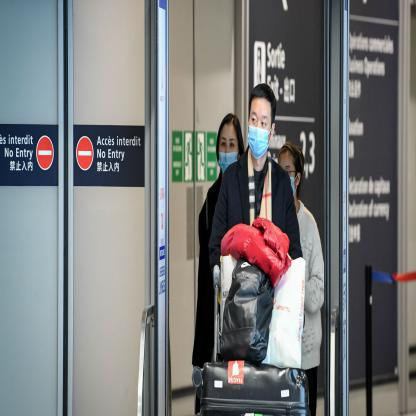Wearing_Mask: (247, 109, 271, 159), (217, 132, 240, 174), (280, 158, 296, 198)
